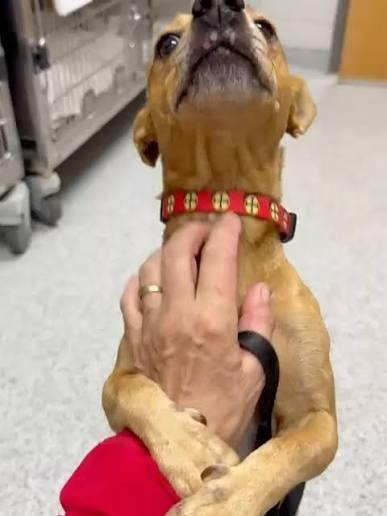adult_dog: (101, 0, 343, 515)
